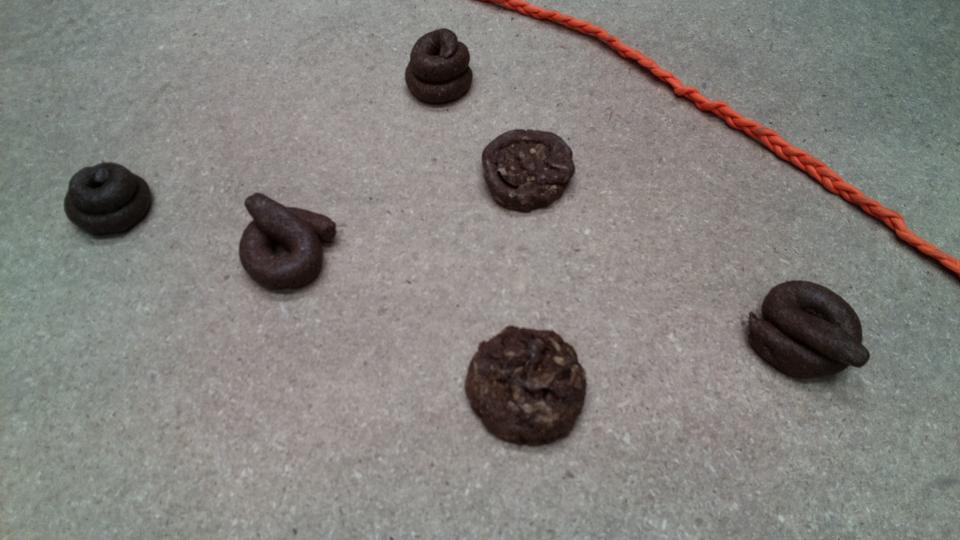poop: (460, 319, 591, 453), (741, 276, 875, 393), (236, 190, 345, 298), (476, 125, 579, 219), (60, 157, 156, 245), (401, 25, 474, 110)
rope: (505, 1, 960, 269)
